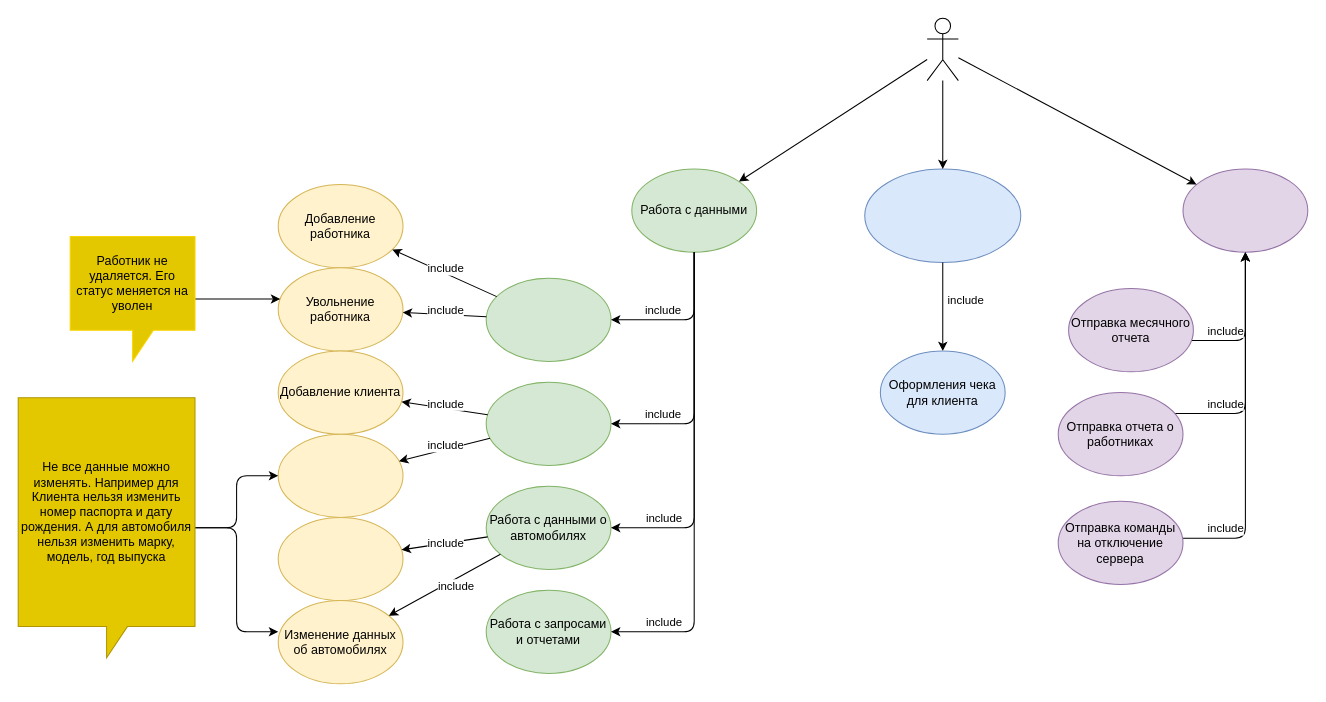
This 1326x702 diagram has some shape labels left out. Each missing label, with the centre of its shape:
Добавление автомобиля: the point at 340,558
Изменение данных о клиенте: the point at 340,475
Оформление заявки на ремонт: the point at 942,215
Пользователь: the point at 942,49
Работа с данными о клиентах: the point at 548,423
Работа с данными о работниках: the point at 548,319
Работа с сервером: the point at 1245,210
